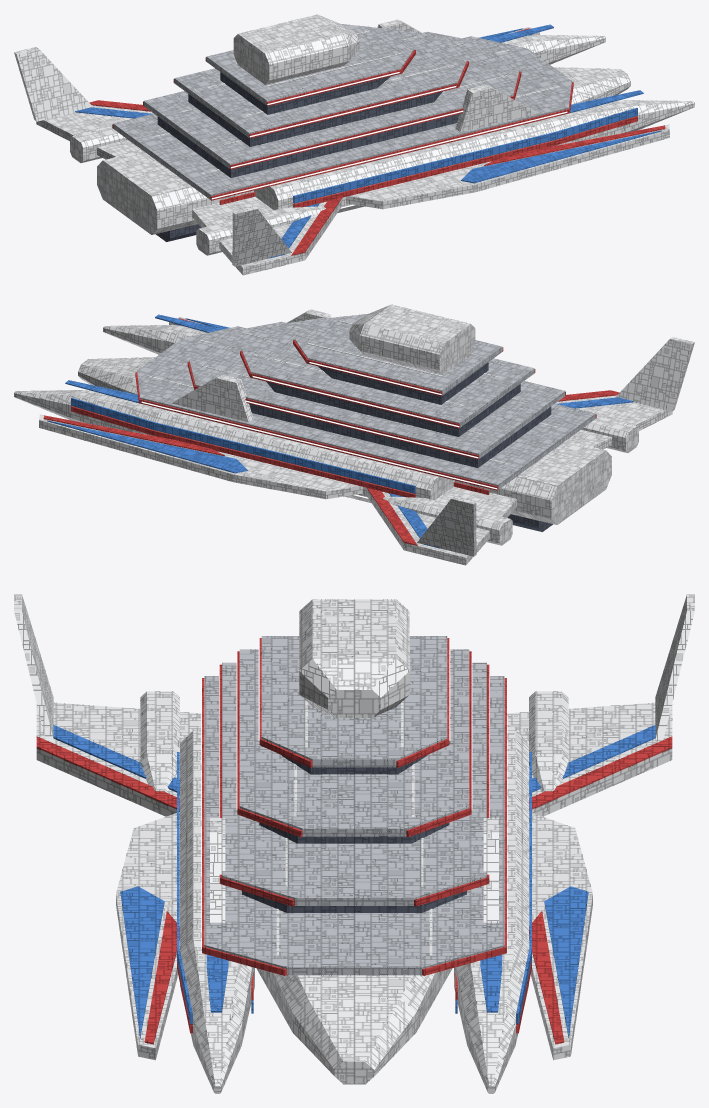
File: air_lod2.glb
The picture shows the model from 3 angles, top to bottom: view 1: azimuth 30°, elevation 25°; view 2: azimuth 150°, elevation 25°; view 3: azimuth 270°, elevation 25°; orthographic projection. The views are drawn at different scales.
Visible parts, largest first — view 1: air_lod2_body, air_lod2_glow; view 2: air_lod2_body, air_lod2_glow; view 3: air_lod2_body, air_lod2_glow.
Boxes of the visible parts, left/top/right/bottom form: air_lod2_body: left=14, top=14, right=694, bottom=275; air_lod2_glow: left=142, top=59, right=567, bottom=208; air_lod2_body: left=14, top=304, right=694, bottom=565; air_lod2_glow: left=141, top=349, right=566, bottom=498; air_lod2_body: left=14, top=594, right=694, bottom=1093; air_lod2_glow: left=201, top=640, right=507, bottom=948.
Bounding box in the file's own units: 21.1 × 6.1 × 15.42.
2 materials, 1 textured.
